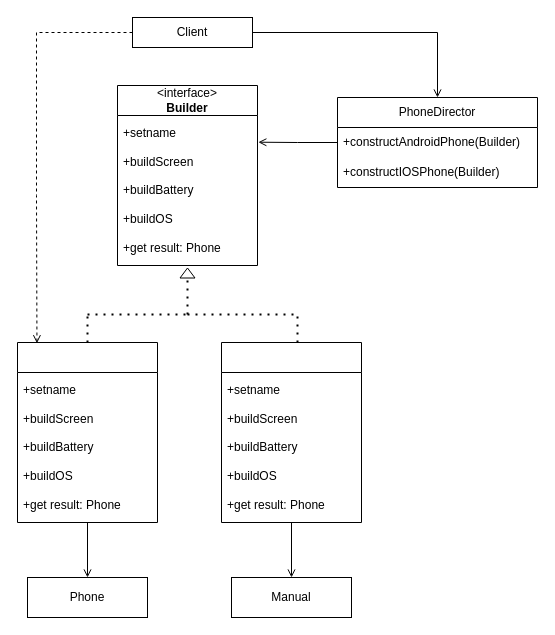
Some shapes in this 555 by 635 pixel diagram are drawn without their labels. The box of each missing label's shape, as (x1, y1, x2, y2) in pixels:
ManualBuilder: (220, 342, 362, 522)
PhoneBuilder: (16, 342, 158, 522)
